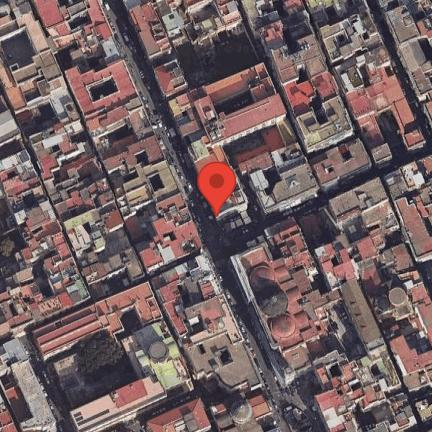area_open: (48, 355, 133, 404), (282, 374, 330, 432), (326, 300, 368, 358), (156, 43, 205, 84), (2, 30, 38, 69), (379, 111, 407, 157), (23, 105, 59, 139), (1, 197, 33, 235), (401, 317, 430, 353), (225, 129, 259, 159), (129, 212, 152, 251), (102, 232, 131, 259), (115, 312, 139, 338), (9, 394, 31, 422), (78, 162, 101, 185), (344, 213, 365, 238), (59, 43, 76, 70), (289, 25, 307, 50), (320, 1, 357, 12), (89, 84, 118, 98), (112, 173, 137, 188), (106, 128, 130, 142), (412, 389, 428, 403), (145, 204, 158, 218)
built: (0, 0, 145, 287), (65, 58, 205, 270), (32, 281, 196, 432), (166, 61, 289, 231), (305, 0, 427, 163), (230, 217, 343, 390), (317, 229, 432, 392), (242, 0, 357, 154), (0, 150, 90, 337), (149, 253, 266, 392), (316, 280, 417, 432), (235, 118, 323, 214), (122, 0, 241, 59), (379, 0, 432, 127), (33, 0, 121, 70), (0, 339, 60, 432), (384, 152, 432, 263), (329, 174, 399, 231), (311, 137, 371, 183), (210, 394, 281, 432), (145, 398, 214, 432), (151, 60, 187, 97), (0, 397, 17, 431), (299, 215, 320, 237), (416, 399, 431, 422)
vegetation_low: (73, 328, 127, 375), (200, 33, 254, 79), (311, 208, 339, 241), (2, 234, 17, 273), (315, 9, 359, 22), (309, 376, 322, 418), (284, 12, 303, 30)
